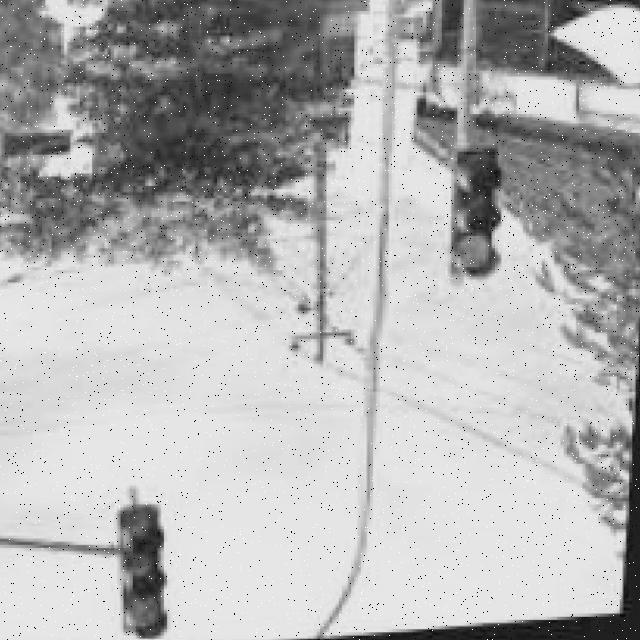Lampu Merah: (449, 148, 515, 286), (116, 502, 179, 640)
